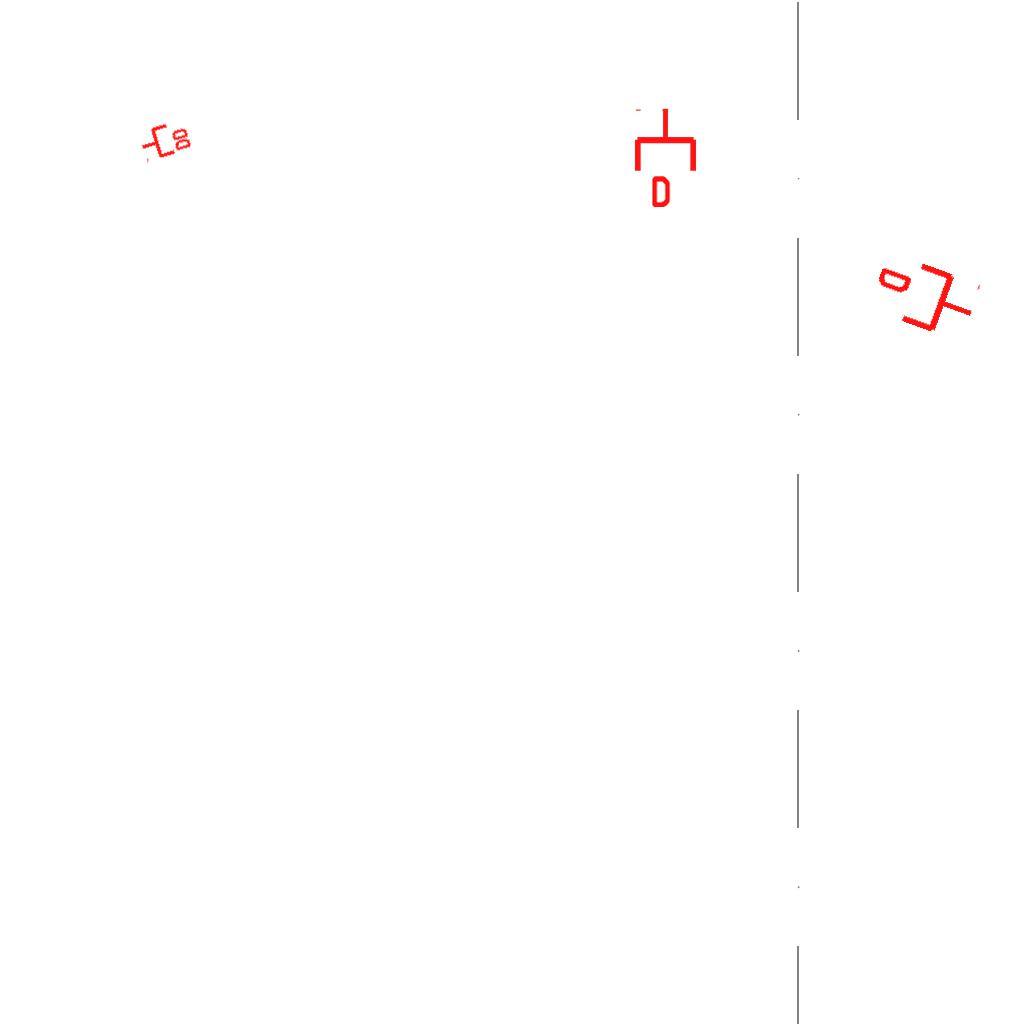Datenanschluss_einfach: (866, 247, 985, 347), (631, 107, 700, 207)
Datenanschluss_zweifach: (135, 115, 195, 164)
